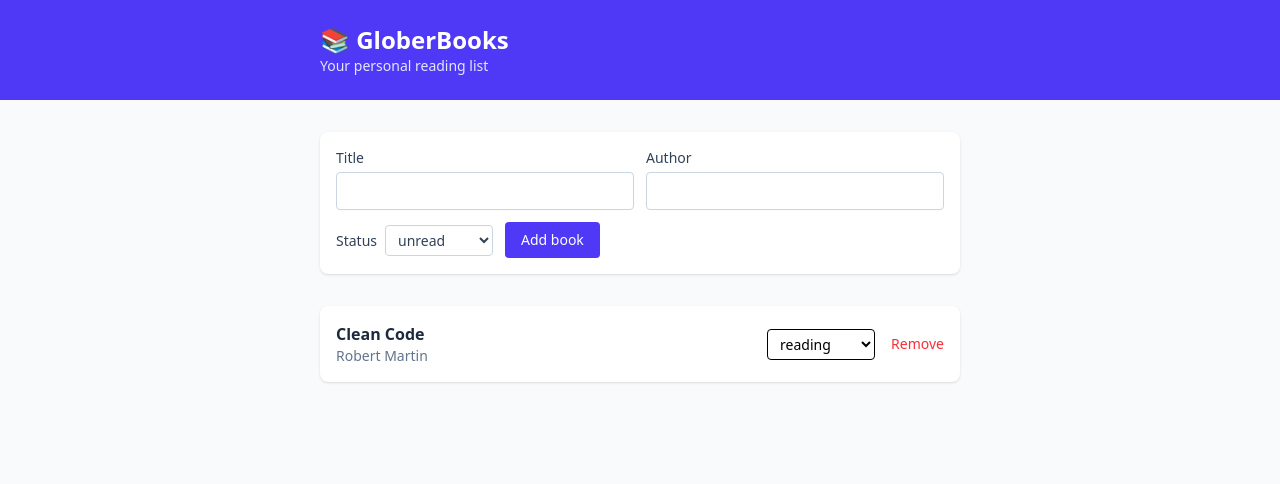
Test: App mutation error feedback (tasks 2.1 + 2.2) › clears the error banner on the next successful mutation
Select "completed" in the dropdown named "Status of Clean Code" at (821, 344), box [767, 328, 875, 360]
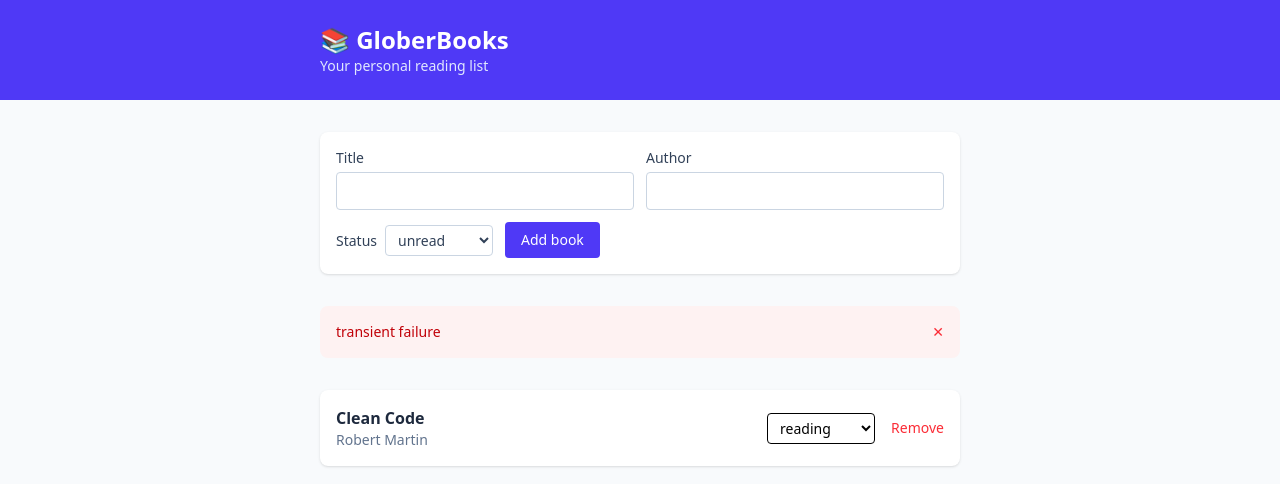
Check: the message "transient failure ✕" is shown, box [320, 306, 960, 358]
Select "reading" in the dropdown named "Status of Clean Code" at (821, 428), box [767, 412, 875, 444]
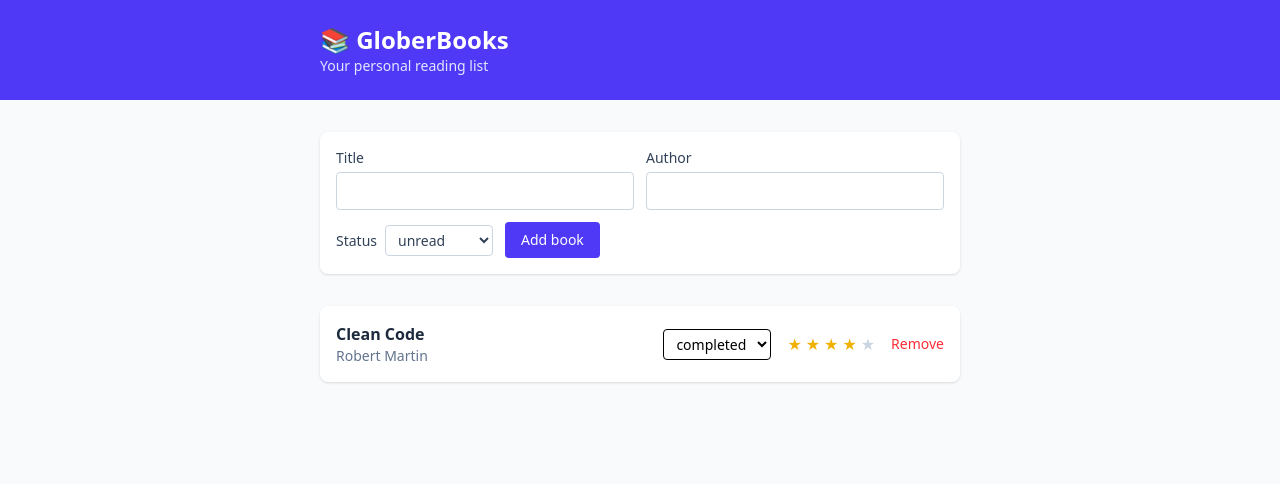
Check: the message "transient failure ✕" is gone
